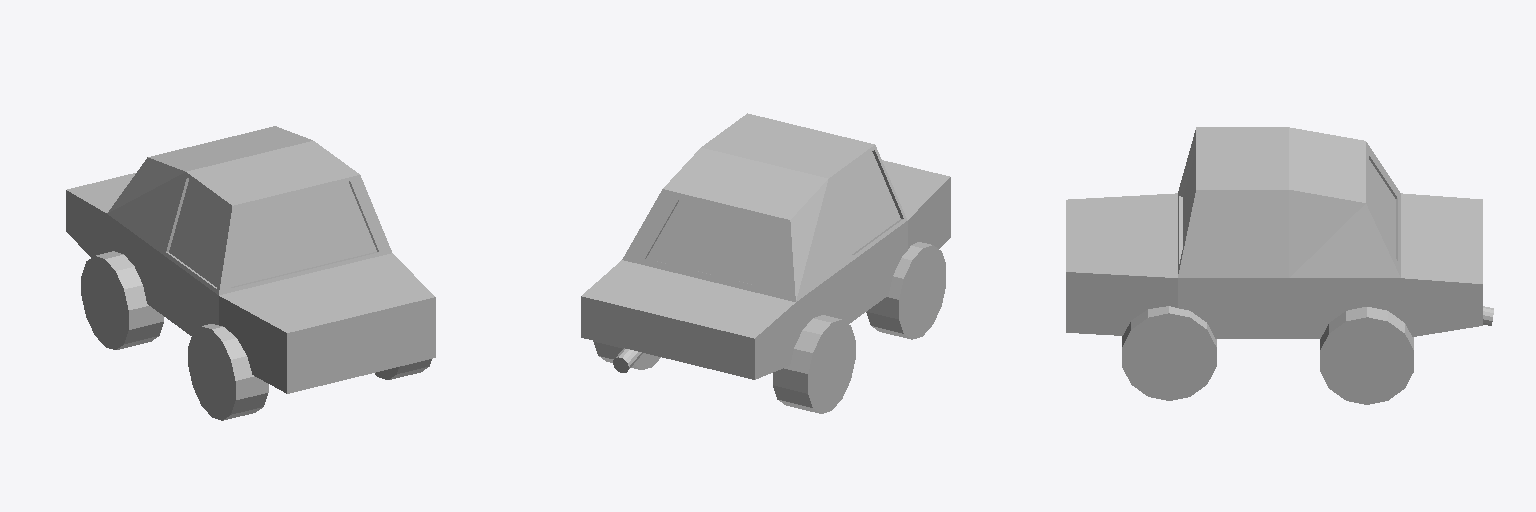
Rendered from Car.obj.
3 renders of one model, left to right at view 1: azimuth 30°, elevation 25°; view 2: azimuth 150°, elevation 25°; view 3: azimuth 270°, elevation 25°, orthographic.
Visible parts, largest first — view 1: Car_Cube.001; view 2: Car_Cube.001; view 3: Car_Cube.001.
Boxes of the visible parts, box(x1,y1,x2,y2) form: Car_Cube.001: box(66, 126, 435, 420); Car_Cube.001: box(581, 113, 950, 413); Car_Cube.001: box(1066, 127, 1493, 404).
Size of the model in its own units: 5.11 by 4.4 by 8.81.